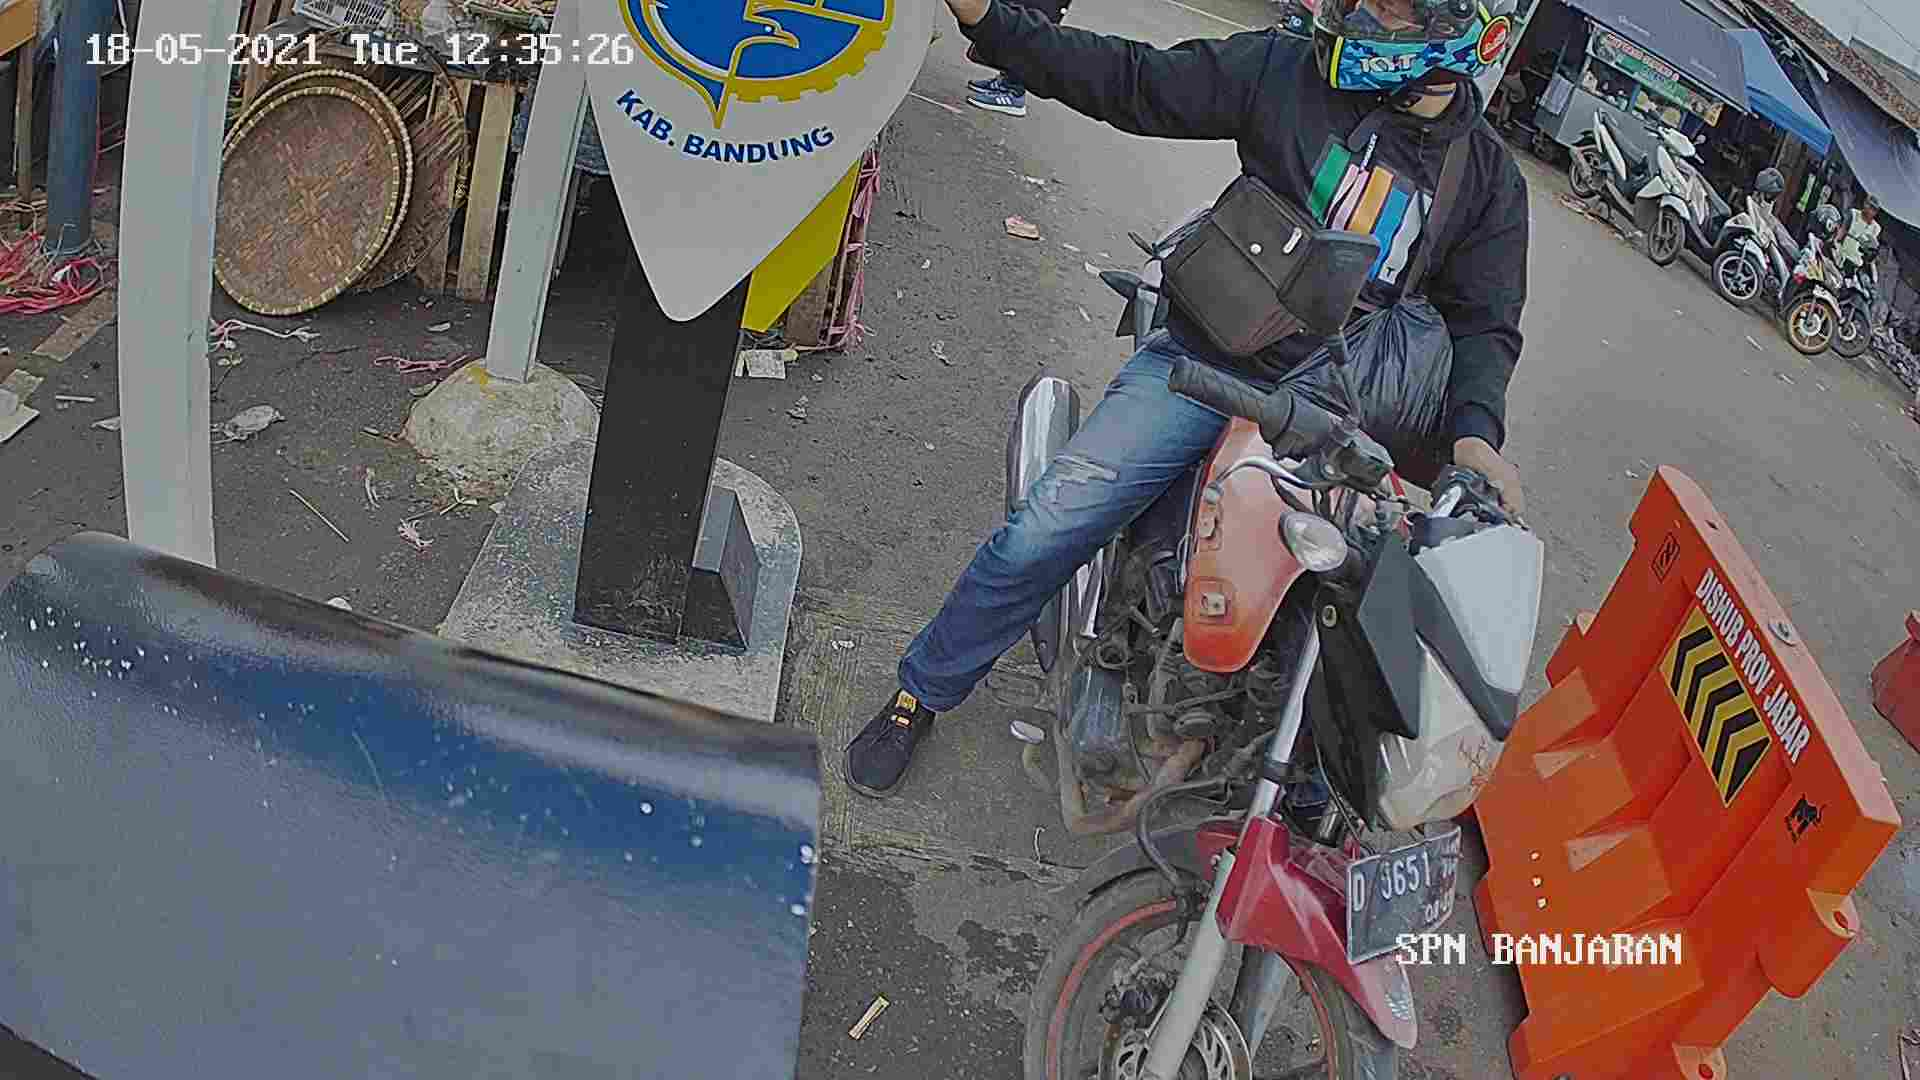motor: (969, 240, 1569, 1077)
